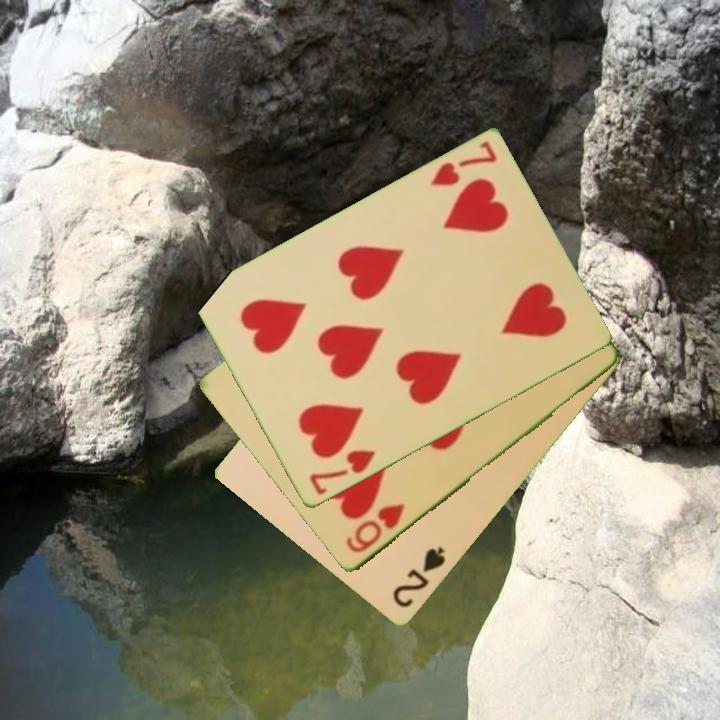2s: (389, 543, 449, 612)
6h: (342, 500, 408, 557)
7h: (305, 446, 379, 499), (426, 138, 500, 190)
